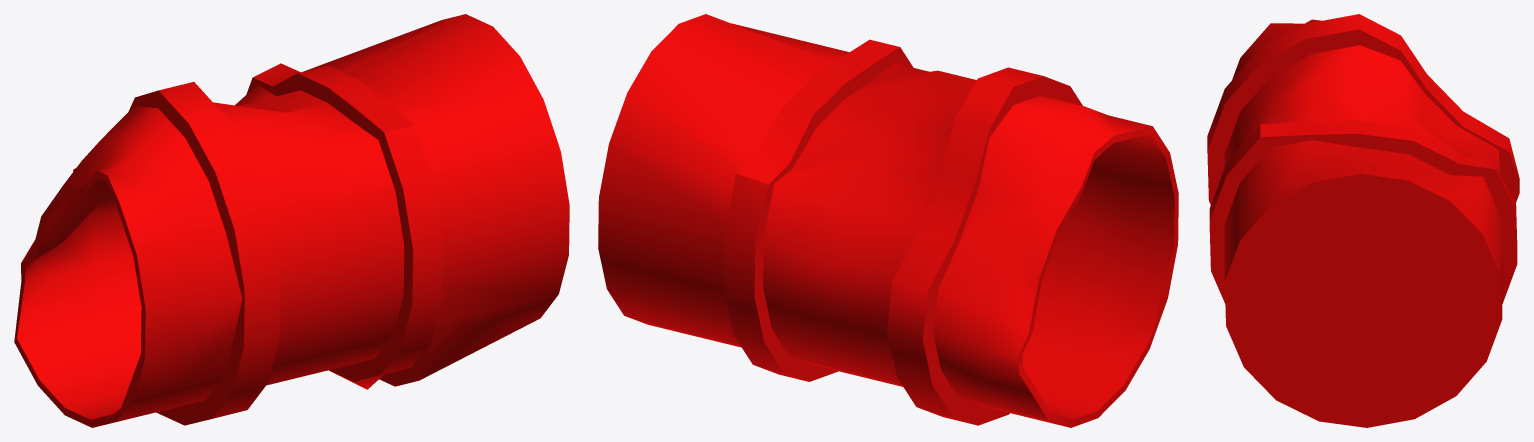
The model's file is FBX_Keg.fbx.
The picture shows the model from 3 angles, left to right: view 1: azimuth 30°, elevation 25°; view 2: azimuth 150°, elevation 25°; view 3: azimuth 270°, elevation 25°; orthographic projection. The views are drawn at different scales.
Visible parts, largest first — view 1: Cylinder008; view 2: Cylinder008; view 3: Cylinder008.
Boxes of the visible parts, bbox=[...] form: Cylinder008: bbox=[14, 14, 569, 427]; Cylinder008: bbox=[598, 14, 1178, 427]; Cylinder008: bbox=[1207, 14, 1519, 427].
Bounding box in the file's own units: 150 × 116 × 109.
